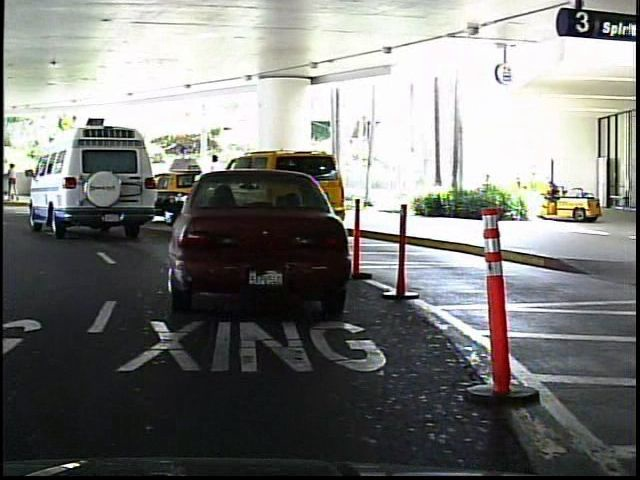person: (205, 150, 229, 210), (38, 156, 55, 200), (5, 160, 21, 201)
